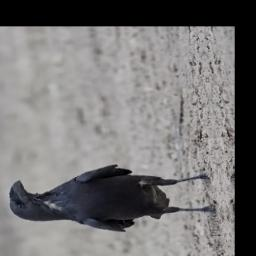Crow: (4, 157, 221, 240)
